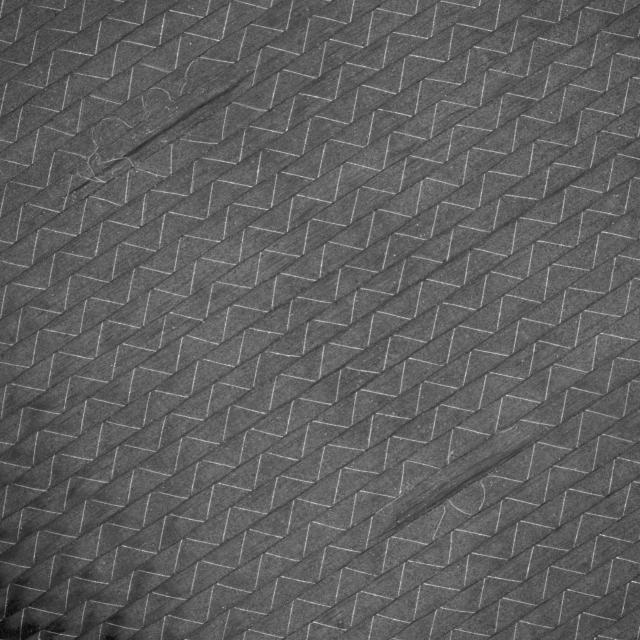carbon-fibre-defect: (63, 27, 304, 210), (371, 403, 558, 539), (401, 441, 559, 554)
